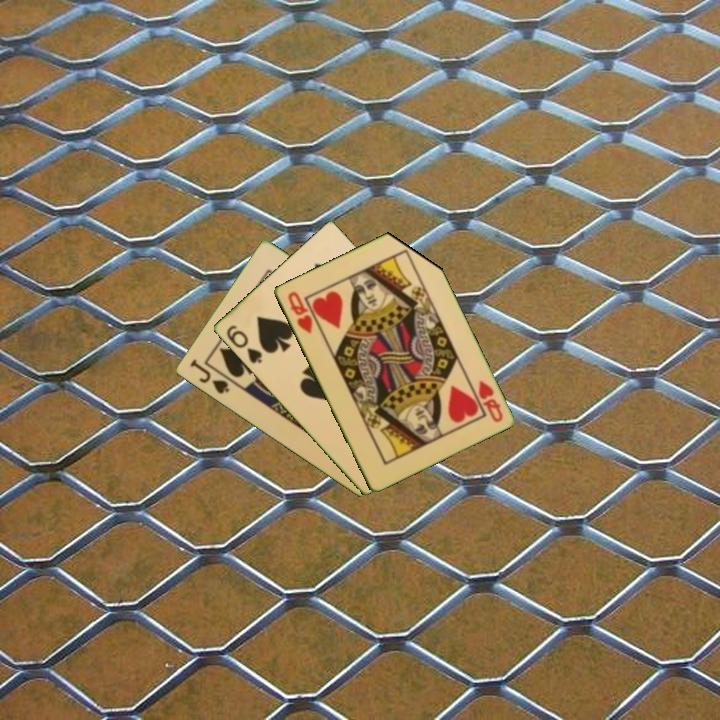6s: (222, 321, 265, 367)
Js: (186, 356, 232, 397)
Qh: (284, 287, 315, 336), (474, 376, 505, 425)
